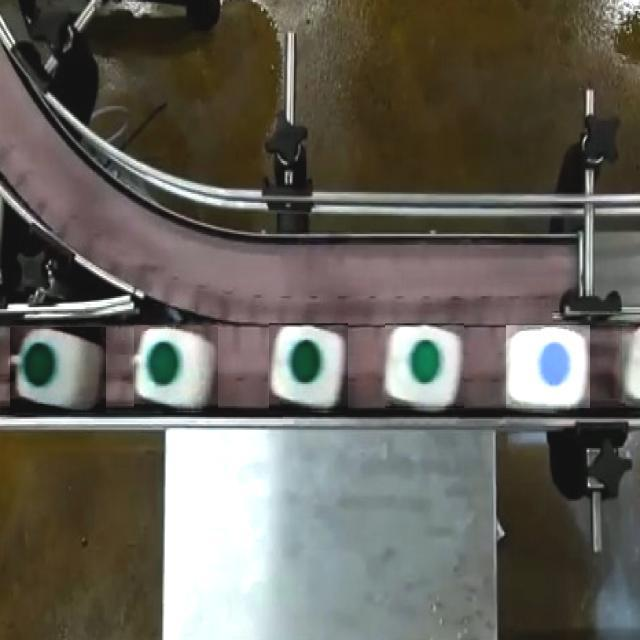milk: (11, 323, 106, 419)
